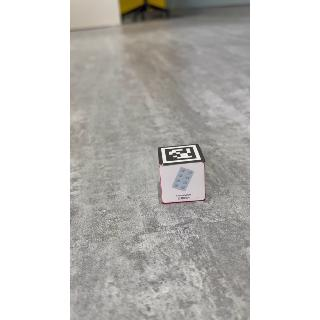Tablet: (161, 165, 206, 203)
